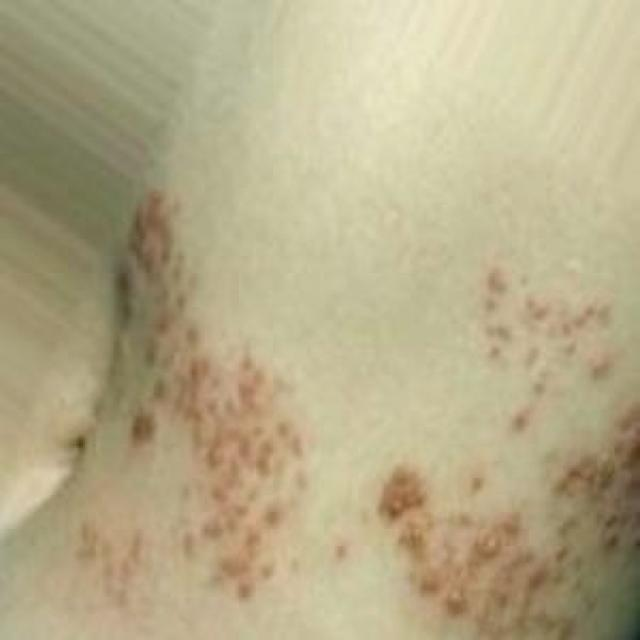Shingles: (377, 256, 640, 640), (77, 194, 311, 610)
